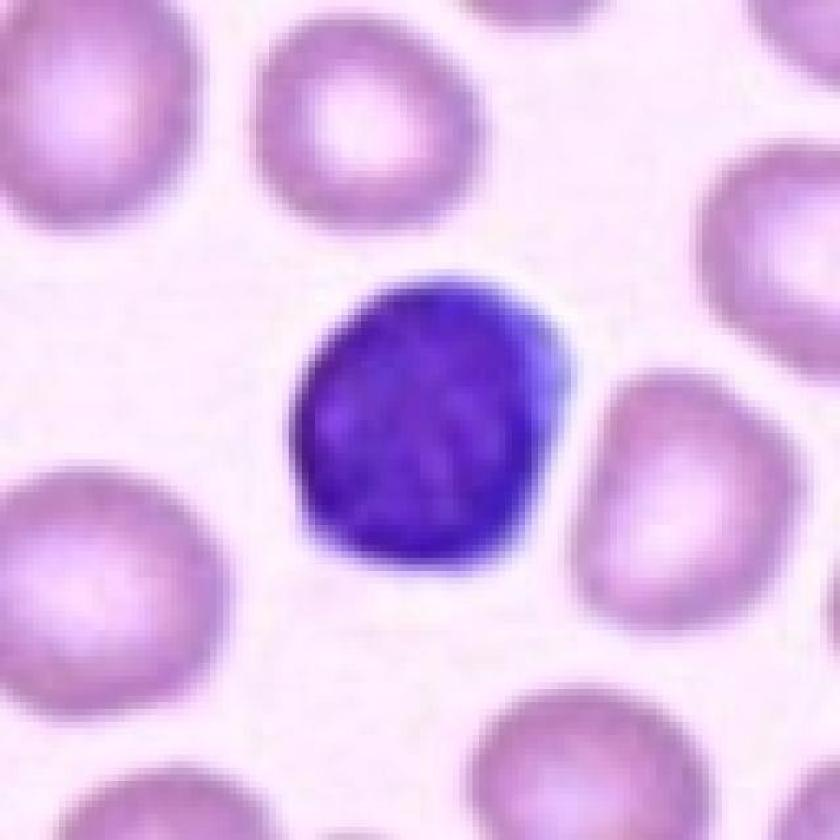lymphocyte: (273, 266, 573, 576)
